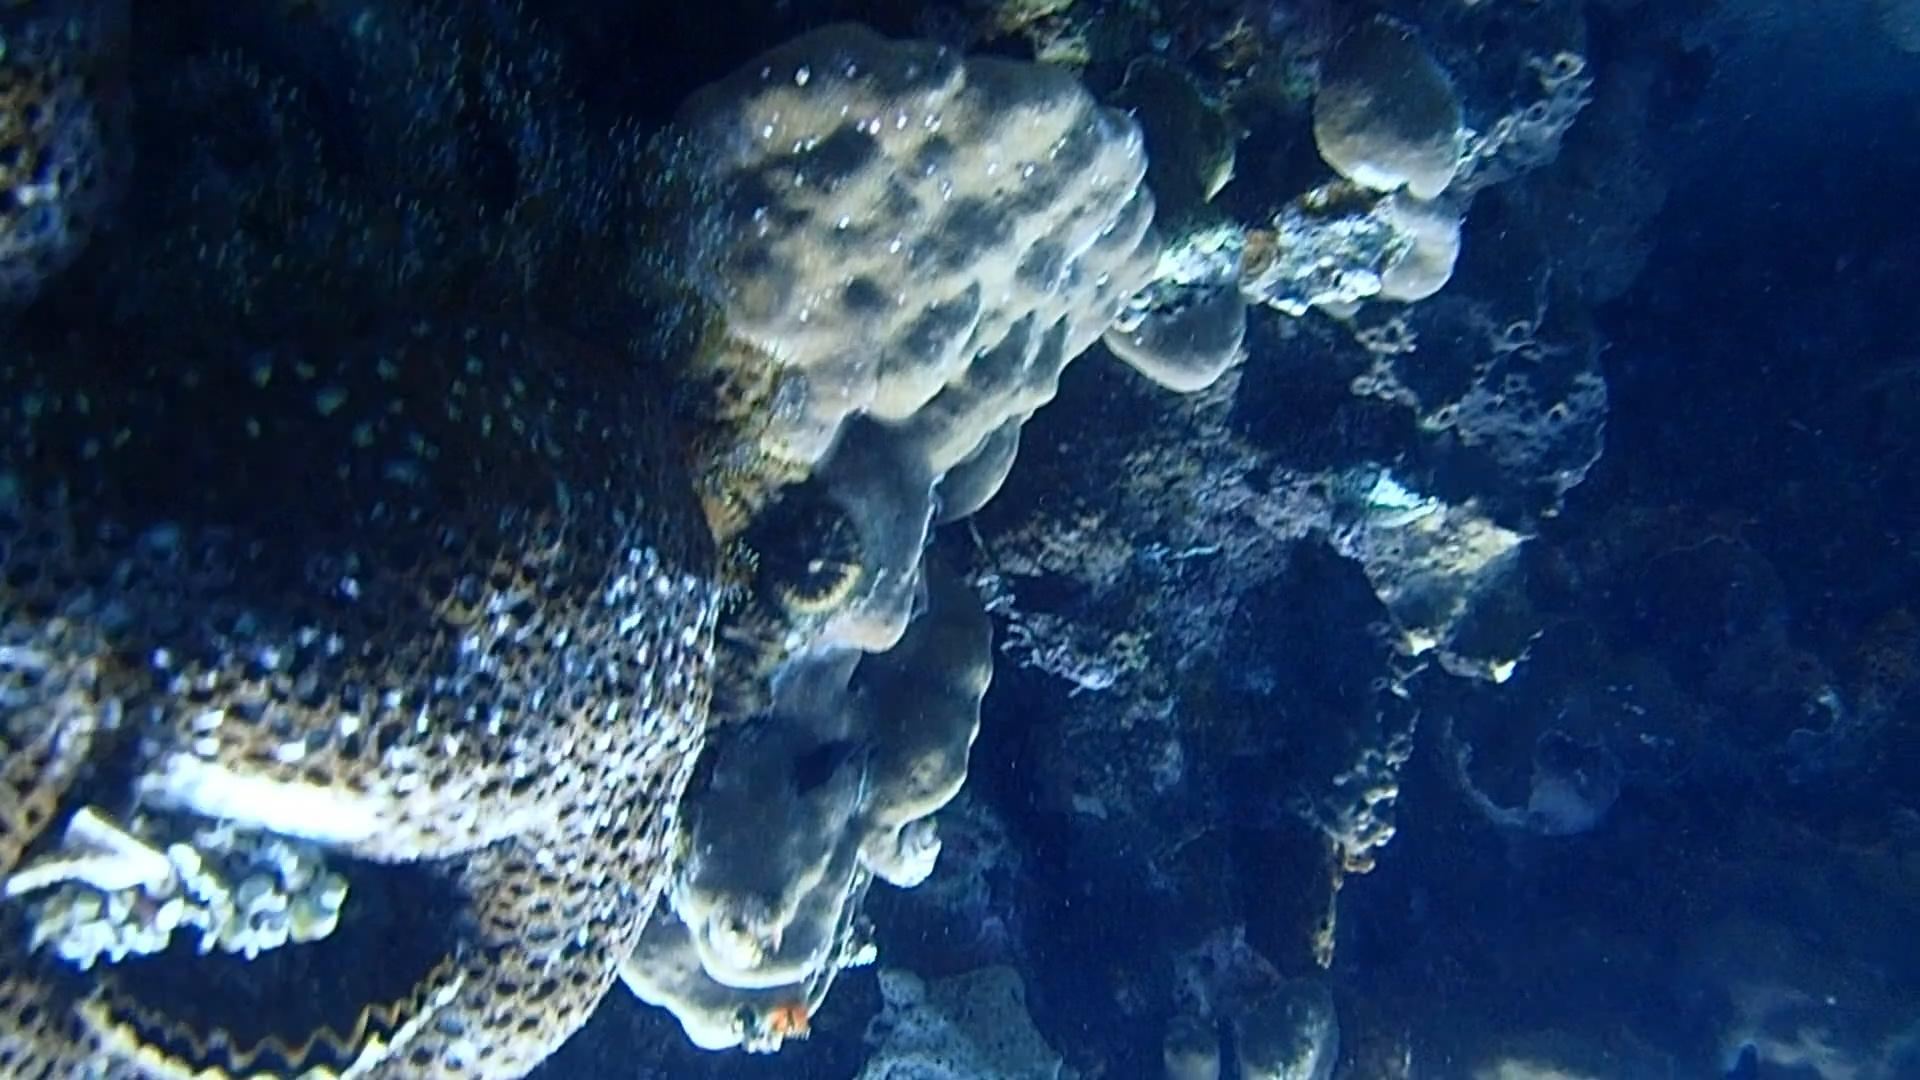Dark Fish: (990, 563, 1102, 629), (778, 728, 858, 812)
